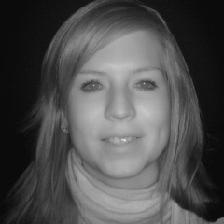happy: (33, 2, 206, 208)
